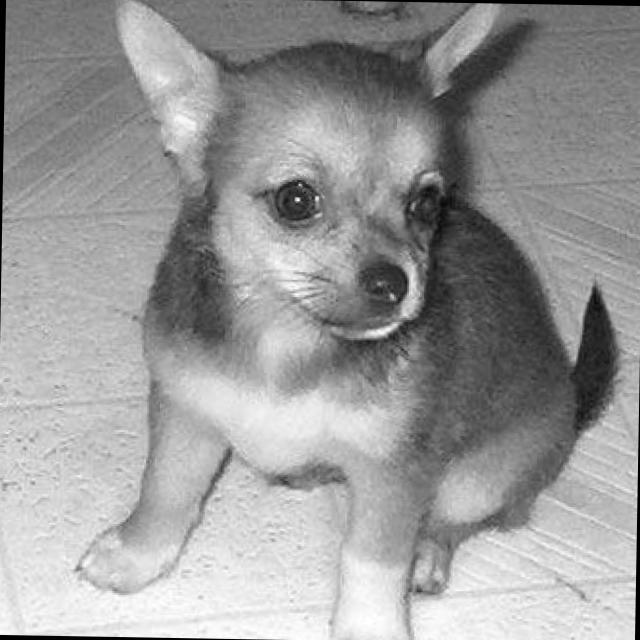sitting: (67, 0, 626, 640)
